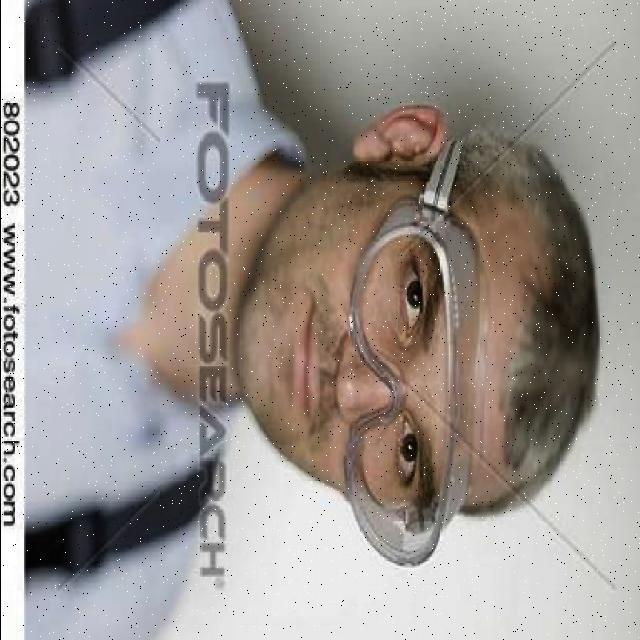Goggles: (337, 117, 497, 640)
